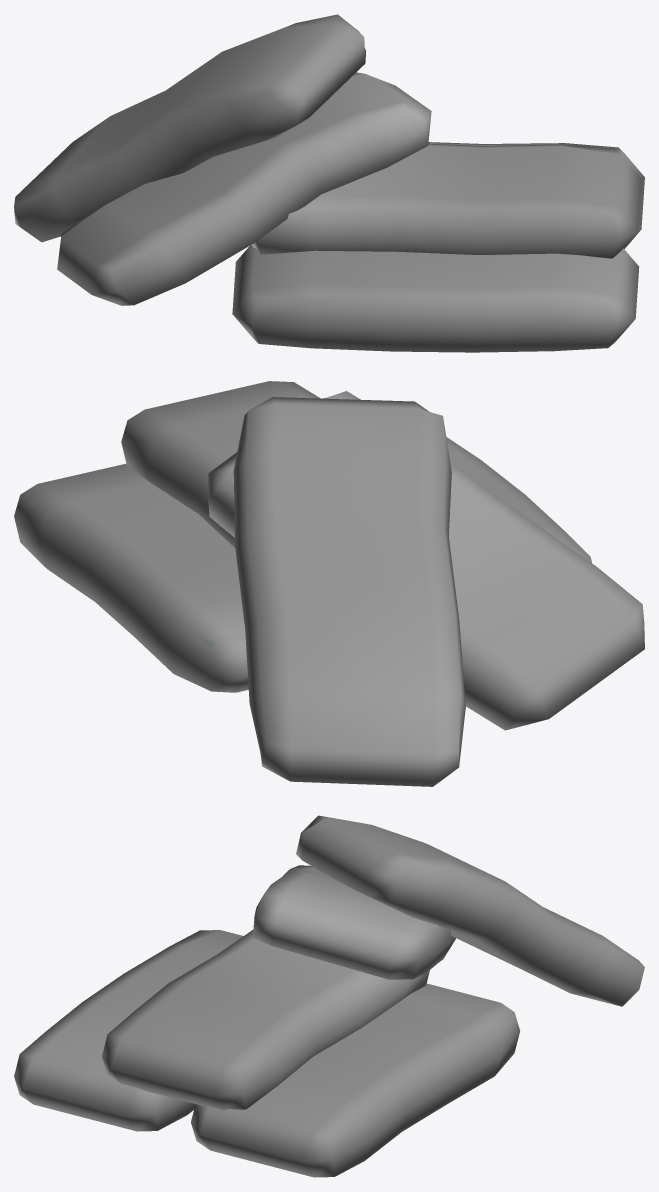
The model's file is cement_pack_1.fbx.
3 views of the same model, one above another, from view 1: azimuth 30°, elevation 25°; view 2: azimuth 150°, elevation 25°; view 3: azimuth 270°, elevation 25° (orthographic). The views are drawn at different scales.
Parts seen in each view (by area): view 1: cement_pack_1; view 2: cement_pack_1; view 3: cement_pack_1.
Boxes of the visible parts, x1,y1,x2,y2 form: cement_pack_1: (14, 14, 644, 352); cement_pack_1: (14, 381, 644, 786); cement_pack_1: (14, 815, 644, 1177).
Bounding box in the file's own units: 28.52 × 10.94 × 29.02.
